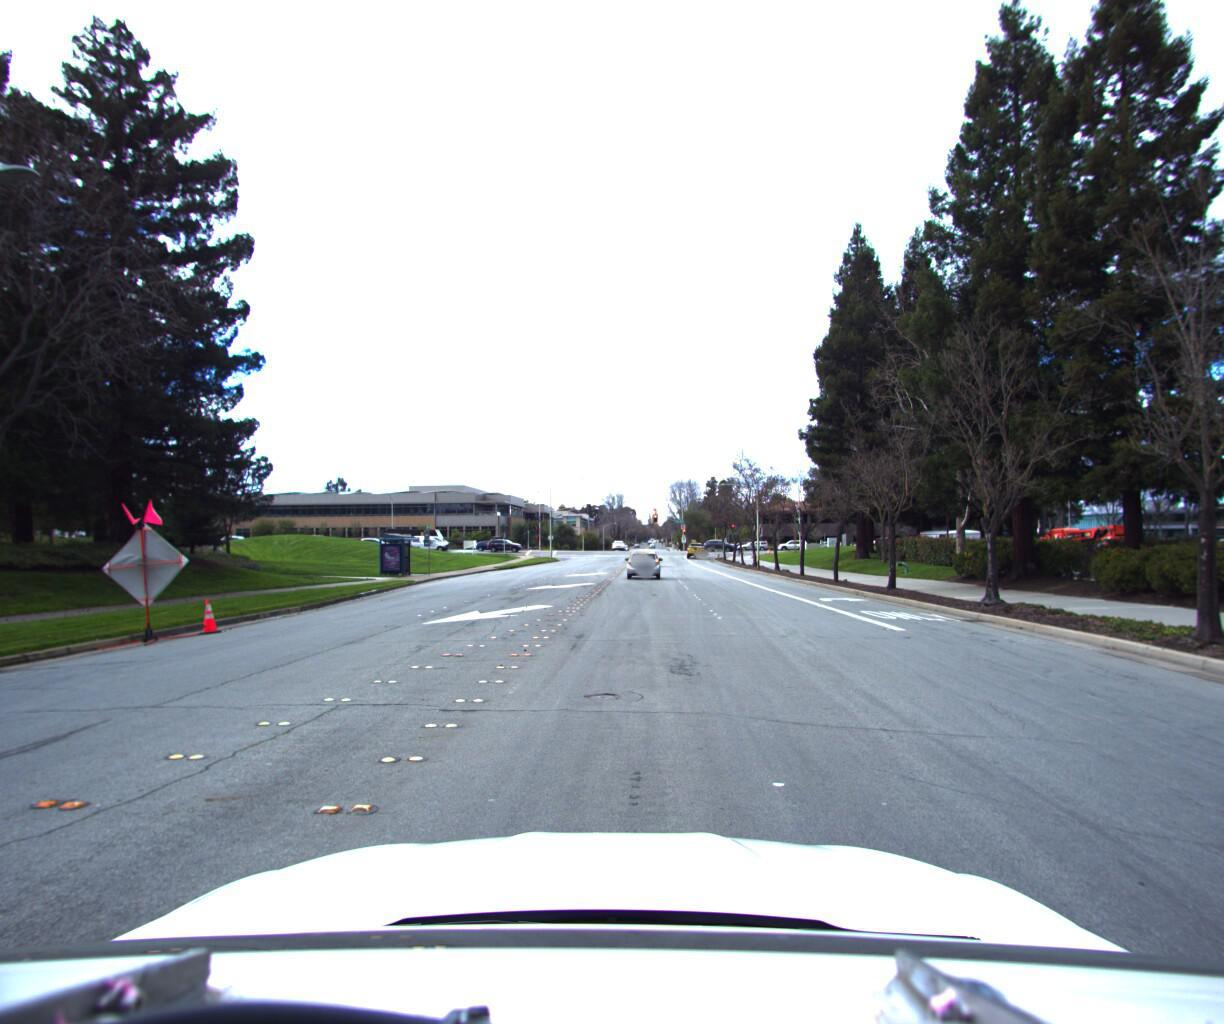car: (623, 543, 662, 577)
